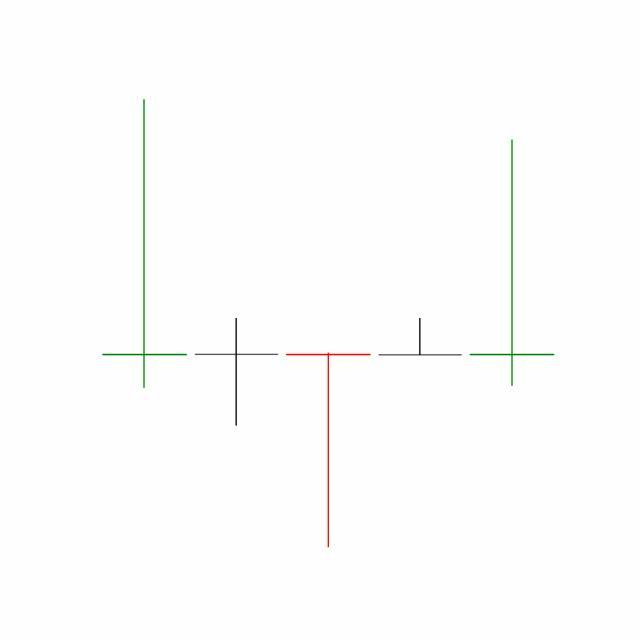Gravestone Doji: (374, 318, 468, 356)
